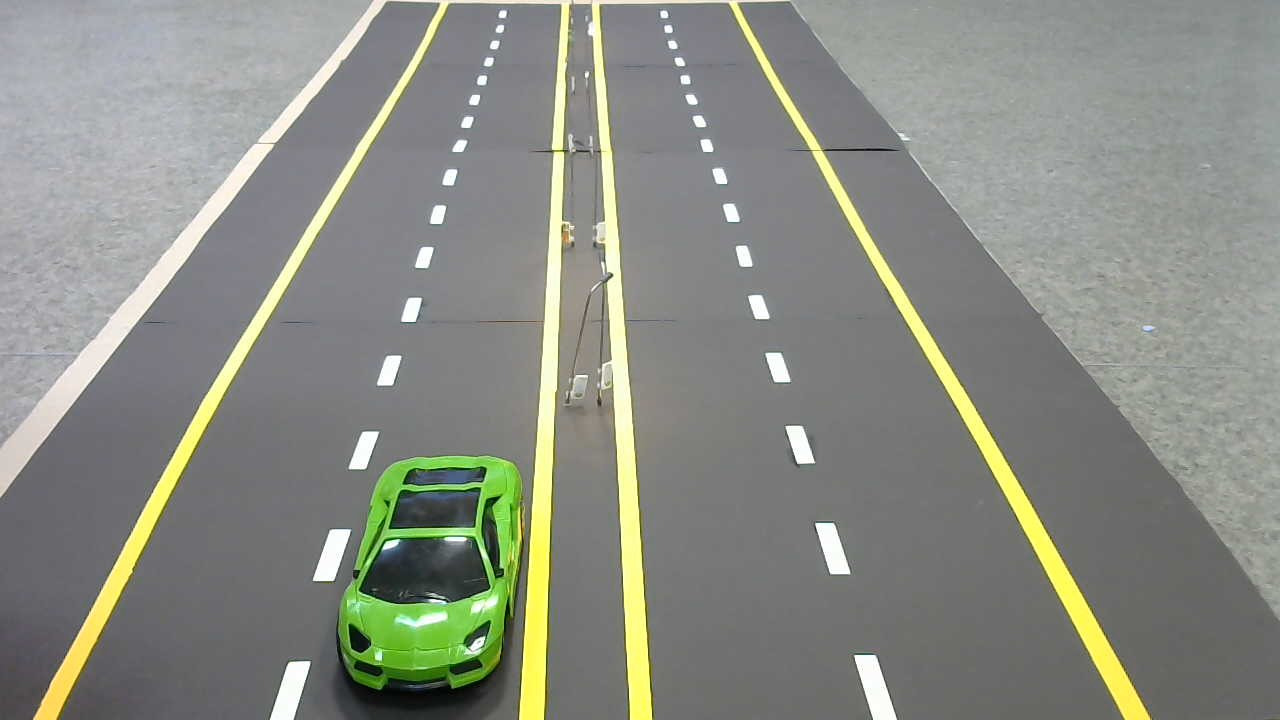front_car: (332, 450, 530, 709)
